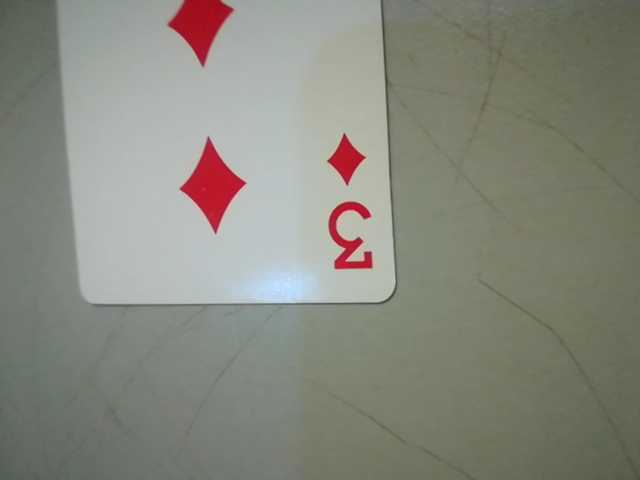fk 3: (308, 124, 386, 287)
